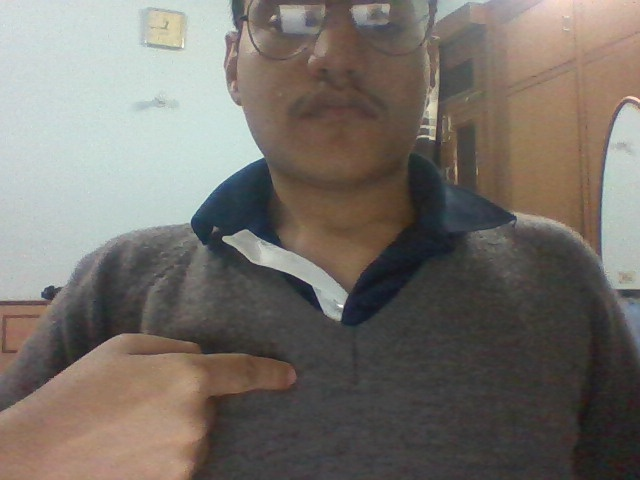I: (89, 300, 325, 480)
